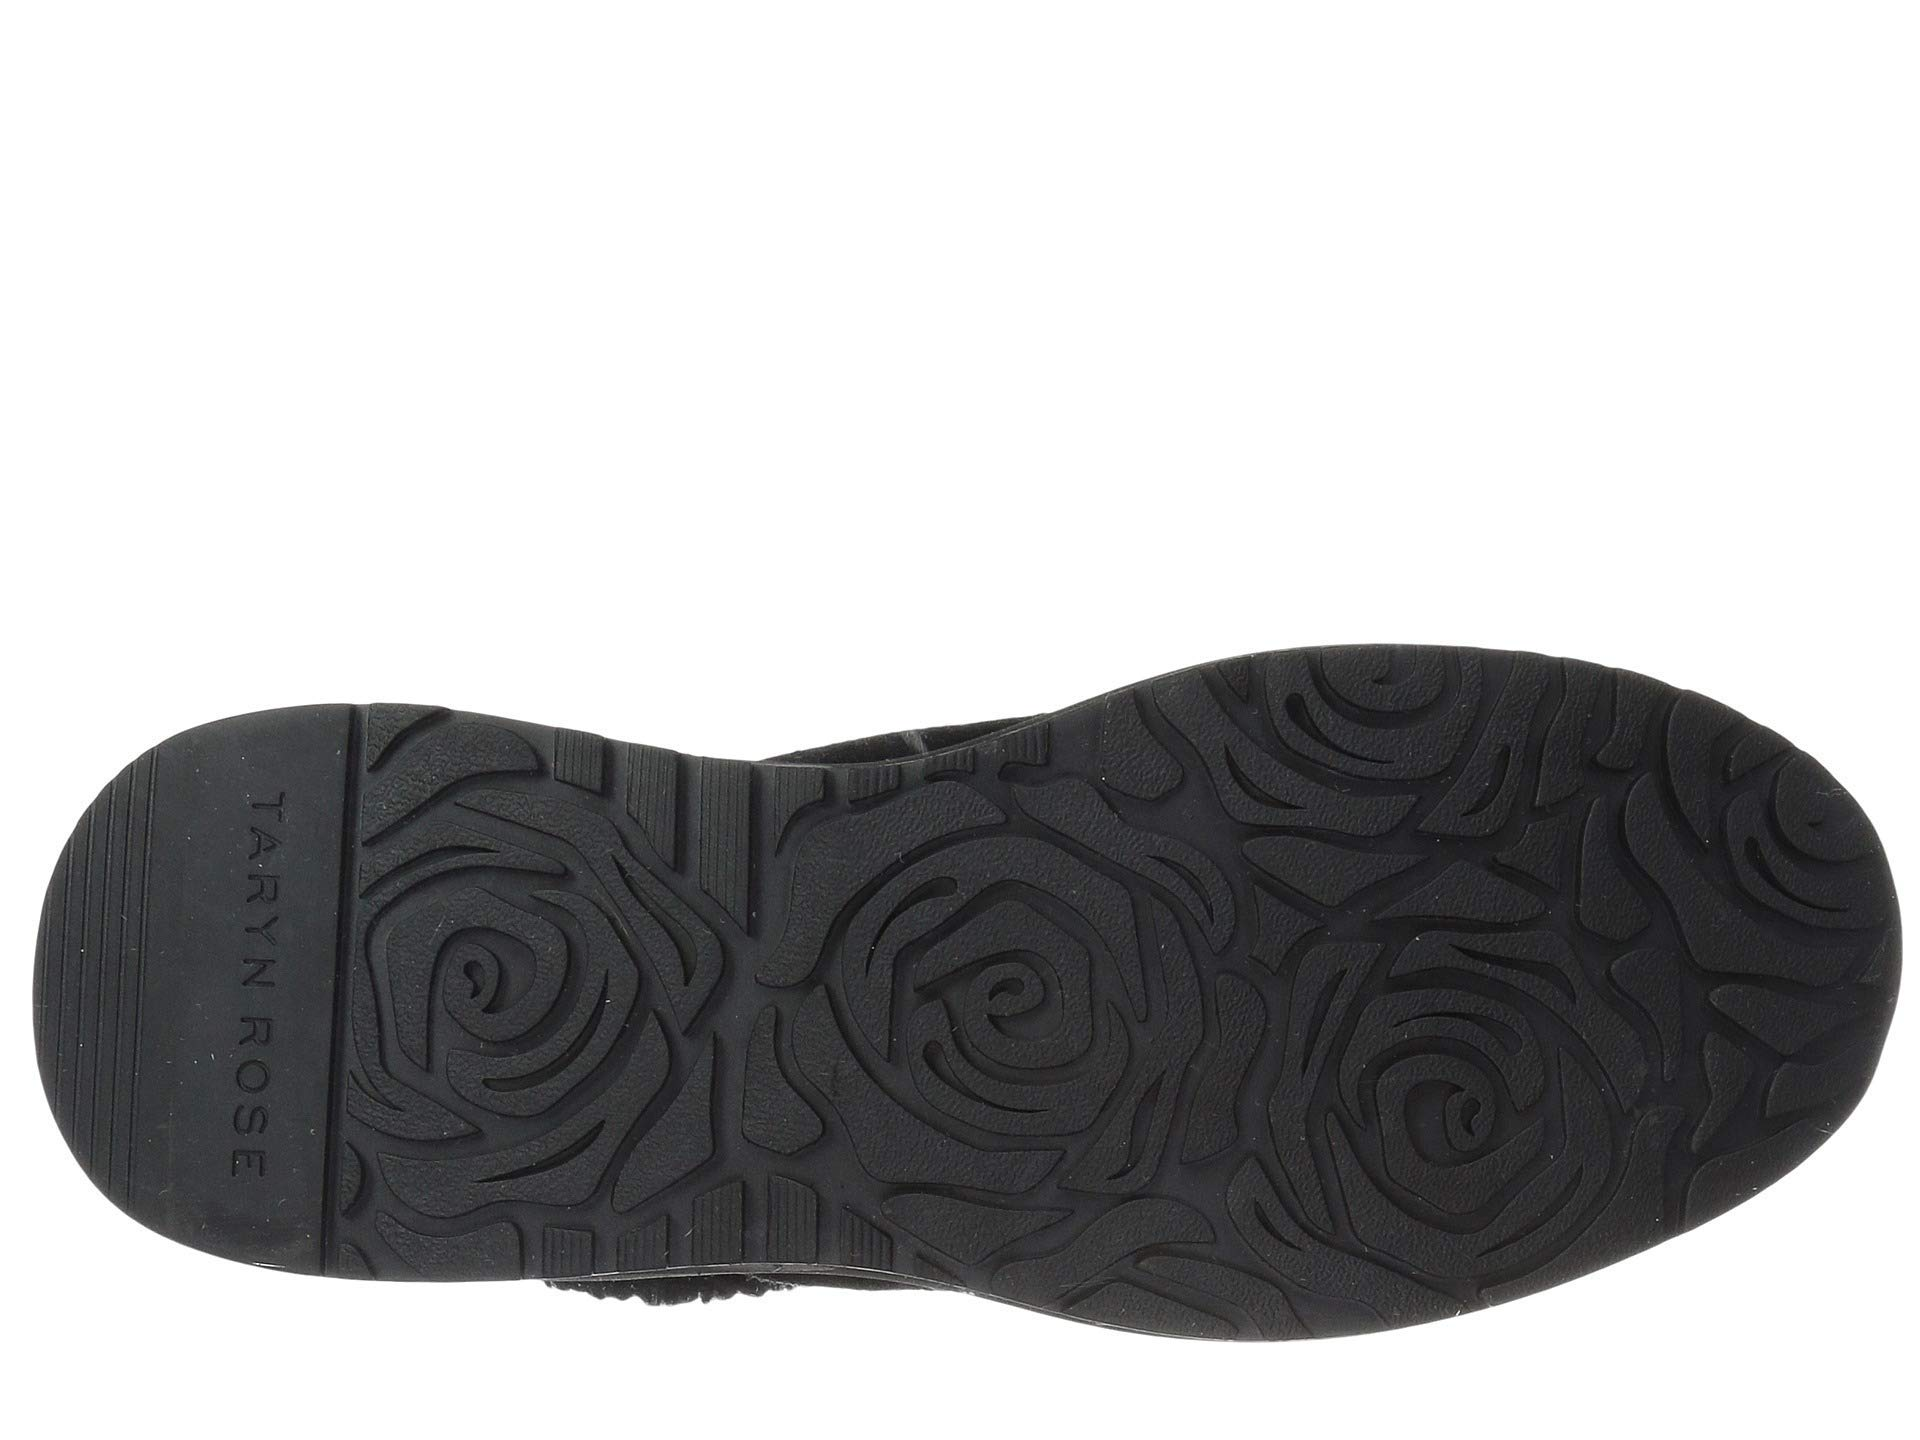circle: (209, 758, 310, 1192)
line: (549, 725, 771, 914), (532, 1144, 815, 1265), (70, 774, 160, 1144)
other: (857, 812, 1138, 1215)
quad: (549, 725, 771, 914), (532, 1144, 815, 1265)
text: (209, 758, 310, 1192)
triangle: (1587, 764, 1875, 1121), (1203, 737, 1538, 964)
